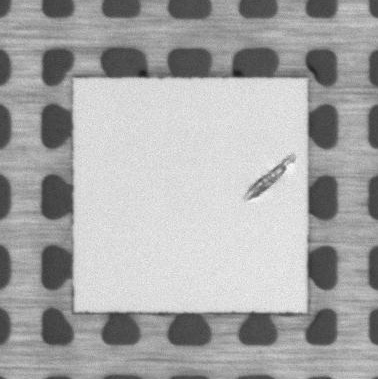DIE_INK: (239, 150, 299, 205)
